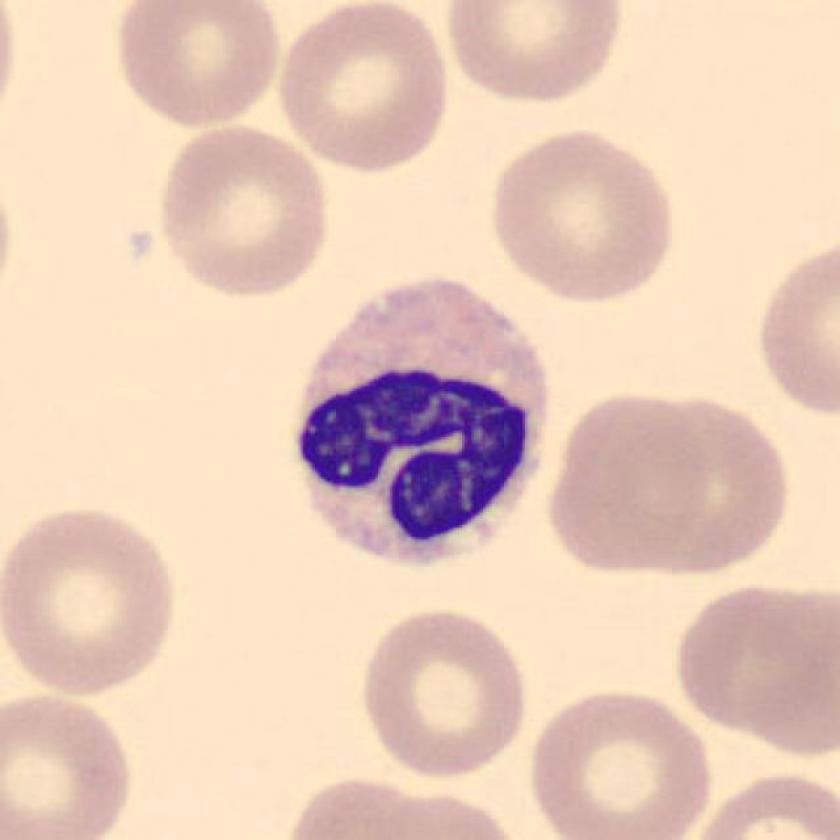neutrophil: (301, 281, 545, 566)
